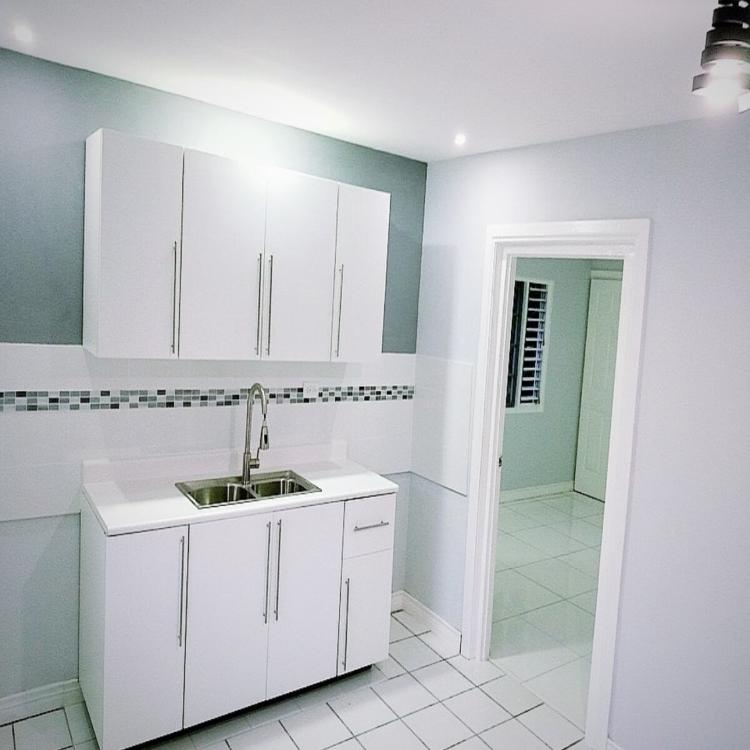OpenDoor: (479, 220, 637, 717)
